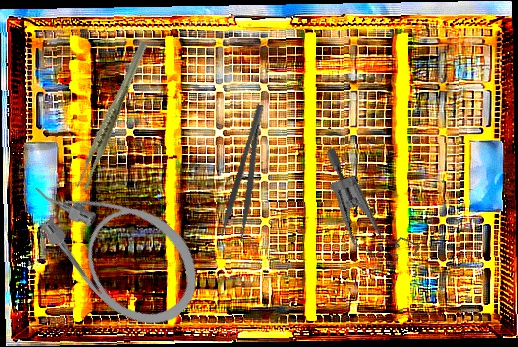Cannula: (12, 140, 219, 346)
Dressing Forceps: (218, 103, 279, 242)
Speculum: (293, 146, 446, 277)
Tissue Forceps: (52, 40, 173, 193)
